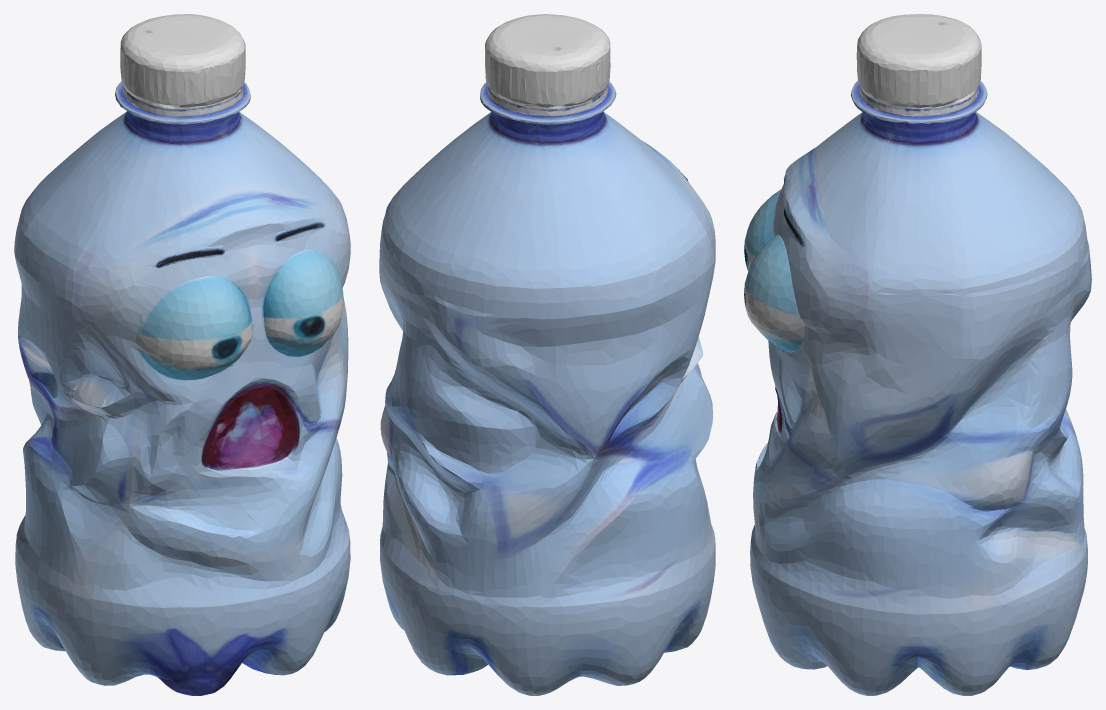
Rendered from Copilot3D-e04284b9-a4af-4090-8b1e-30a1359b6c39.glb.
3 views of the same model, side by side, from view 1: azimuth 30°, elevation 25°; view 2: azimuth 150°, elevation 25°; view 3: azimuth 270°, elevation 25° (orthographic).
Parts seen in each view (by area): view 1: world; view 2: world; view 3: world.
Boxes of the visible parts, left/top/right/bottom form: world: left=14, top=14, right=350, bottom=695; world: left=379, top=14, right=715, bottom=695; world: left=744, top=14, right=1091, bottom=695.
Size of the model in its own units: 0.5013 by 0.9998 by 0.5157.
Materials: 1 (1 with a texture image).
